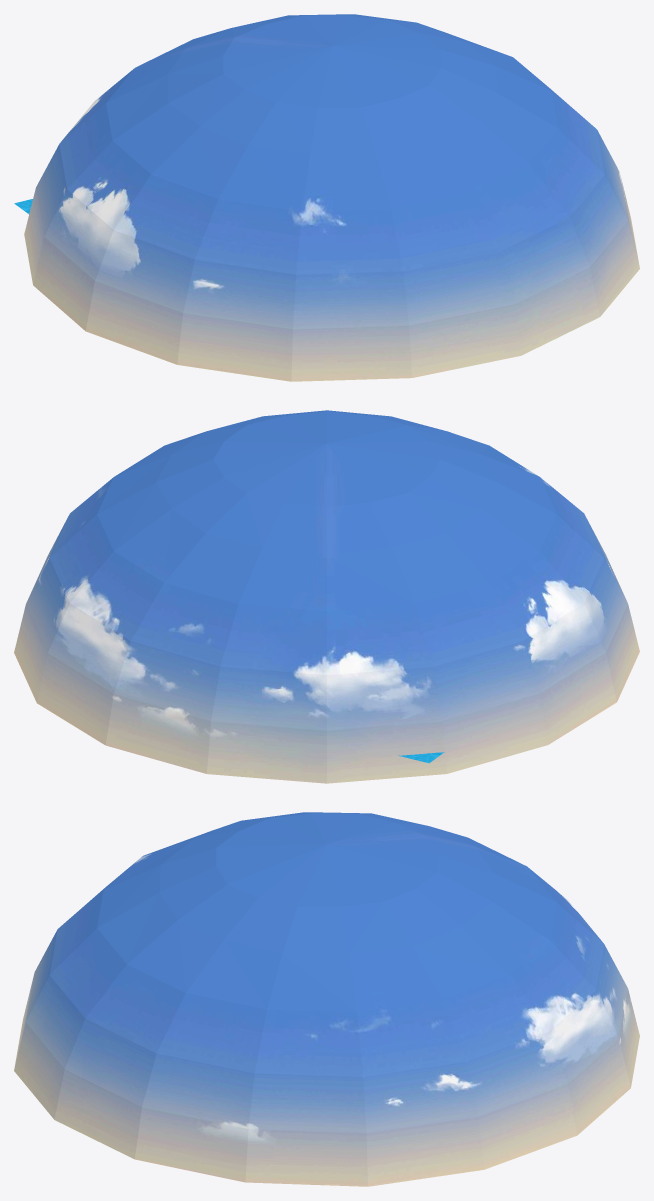
The model's file is map_qms.glb.
3 renders of one model, top to bottom at view 1: azimuth 30°, elevation 25°; view 2: azimuth 150°, elevation 25°; view 3: azimuth 270°, elevation 25°, orthographic.
Parts seen in each view (by area): view 1: qms_Sky; view 2: qms_Sky; view 3: qms_Sky.
Boxes of the visible parts, left/top/right/bottom form: qms_Sky: left=24, top=14, right=639, bottom=381; qms_Sky: left=14, top=410, right=639, bottom=783; qms_Sky: left=14, top=812, right=639, bottom=1186.
Size of what is drawn, in the model's own units: 35.26 by 13.06 by 35.27.
Materials: 25 (25 with a texture image).
